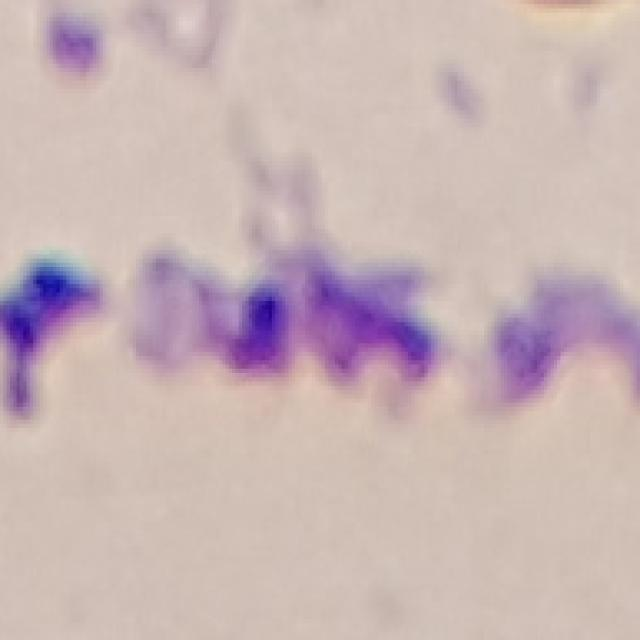non-sperm: (12, 233, 602, 414)
